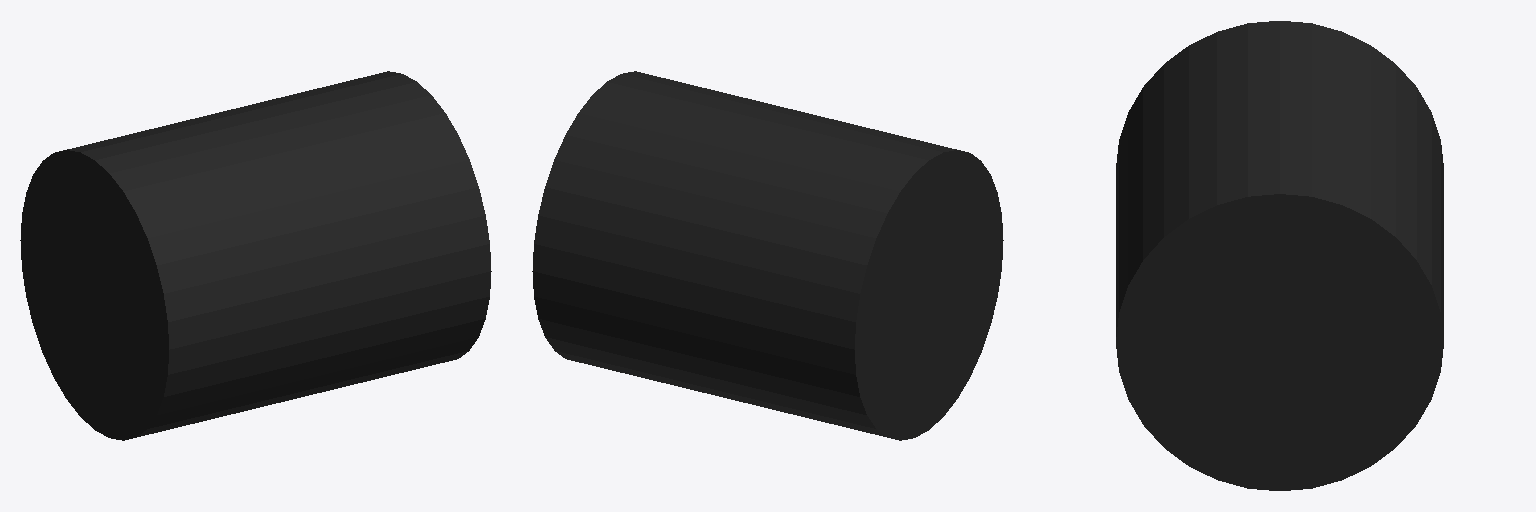
robot.urdf — camera_model:
<?xml version="1.0"?>
<robot name="camera_model">
  <link name="camera_link">
    <visual>
      <origin xyz="0 0 0" rpy="0 1.5707963 0" />
      <geometry>
        <cylinder radius="0.02" length="0.05" />
      </geometry>
      <material name="DarkGrey">
        <color rgba="0.2 0.2 0.2 1.0" />
      </material>
    </visual>
    <collision>
      <origin xyz="0 0 0" rpy="0 1.5707963 0" />
      <geometry>
        <cylinder radius="0.02" length="0.05" />
      </geometry>
    </collision>
    <inertial>
      <mass value="0.05" />
      <origin xyz="0 0 0" rpy="0 0 0" />
      <inertia ixx="0.0001" ixy="0" ixz="0" iyy="0.0001" iyz="0" izz="0.0001" />
    </inertial>
  </link>

  <joint name="camera_screw_joint" type="fixed">
    <parent link="camera_link" />
    <child link="camera_bottom_screw_frame" />
    <origin xyz="0 0.0 0" rpy="0 0 0" />
  </joint>

  <link name="camera_link_depth" />
  <link name="camera_bottom_screw_frame" />
  <link name="camera_depth_frame" />
  <link name="camera_depth_optical_frame" />
  <link name="camera_color_frame" />
  <link name="camera_color_optical_frame" />
  <link name="camera_left_ir_frame" />
  <link name="camera_left_ir_optical_frame" />
  <link name="camera_right_ir_frame" />
  <link name="camera_right_ir_optical_frame" />

  <joint name="camera_link_joint" type="fixed">
    <parent link="camera_bottom_screw_frame" />
    <child link="camera_link_depth" />
    <origin xyz="0 0.0 0.0 " rpy="0 0 0" />
  </joint>

  <joint name="camera_depth_joint" type="fixed">
    <parent link="camera_link_depth" />
    <child link="camera_depth_frame" />
    <origin xyz="0 0 0" rpy="0 0 0" />
  </joint>
  <joint name="camera_depth_optical_joint" type="fixed">
    <parent link="camera_depth_frame" />
    <child link="camera_depth_optical_frame" />
    <origin xyz="0 0 0 " rpy="-1.57 0 -1.57" />
  </joint>
  <joint name="camera_color_joint" type="fixed">
    <parent link="camera_depth_frame" />
    <child link="camera_color_frame" />
    <origin xyz="0 0 0" rpy="0 0 0" />
  </joint>
  <joint name="camera_color_optical_joint" type="fixed">
    <parent link="camera_color_frame" />
    <child link="camera_color_optical_frame" />
    <origin xyz="0 0 0 " rpy="-1.57 0 -1.57" />
  </joint>
  <joint name="camera_left_ir_joint" type="fixed">
    <parent link="camera_depth_frame" />
    <child link="camera_left_ir_frame" />
    <origin xyz="0 0 0 " rpy="0 0 0 " />
  </joint>
  <joint name="camera_left_ir_optical_joint" type="fixed">
    <parent link="camera_left_ir_frame" />
    <child link="camera_left_ir_optical_frame" />
    <origin xyz="0 0 0 " rpy="-1.57 0 -1.57" />
  </joint>
  <joint name="camera_right_ir_joint" type="fixed">
    <parent link="camera_depth_frame" />
    <child link="camera_right_ir_frame" />
    <origin xyz="0 -0.050 0 " rpy="0 0 0" />
  </joint>
  <joint name="camera_right_ir_optical_joint" type="fixed">
    <parent link="camera_right_ir_frame" />
    <child link="camera_right_ir_optical_frame" />
    <origin xyz="0 0 0 " rpy="-1.57 0 -1.57" />
  </joint>

  <gazebo reference="camera_link">
    <sensor name="cameradepth" type="depth_camera">
      <gz_frame_id>camera_depth_optical_frame</gz_frame_id>
      <camera name="camera">
        <horizontal_fov>1.2043</horizontal_fov>
        <image>
          <width>1280</width>
          <height>720</height>
          <format>R_FLOAT32</format>
        </image>
        <clip>
          <near>0.1</near>
          <far>100</far>
        </clip>
      </camera>
      <always_on>1</always_on>
      <update_rate>15</update_rate>
      <visualize>0</visualize>
      <topic>/camera/aligned_depth_to_color/image_raw</topic>
    </sensor>
    <sensor name="cameracolor" type="camera">
      <gz_frame_id>camera_color_optical_frame</gz_frame_id>
      <camera name="camera">
        <horizontal_fov>1.2043</horizontal_fov>
        <image>
          <width>1280</width>
          <height>720</height>
          <format>RGB_INT8</format>
        </image>
        <clip>
          <near>0.1</near>
          <far>100</far>
        </clip>
        <noise>
          <type>gaussian</type>
          <mean>0.0</mean>
          <stddev>0.007</stddev>
        </noise>
      </camera>
      <always_on>1</always_on>
      <update_rate>15</update_rate>
      <visualize>1</visualize>
      <topic>/camera/color/image_raw</topic>
    </sensor>
    <sensor name="cameraired1" type="camera">
      <gz_frame_id>camera_left_ir_optical_frame</gz_frame_id>
      <camera name="camera">
        <horizontal_fov>1.2043</horizontal_fov>
        <image>
          <width>1280</width>
          <height>720</height>
          <format>L_INT8</format>
        </image>
        <clip>
          <near>0.1</near>
          <far>100</far>
        </clip>
        <noise>
          <type>gaussian</type>
          <mean>0.0</mean>
          <stddev>0.05</stddev>
        </noise>
      </camera>
      <always_on>1</always_on>
      <update_rate>15</update_rate>
      <visualize>0</visualize>
      <topic>/camera/infra1/image_raw</topic>
    </sensor>
    <sensor name="cameraired2" type="camera">
      <gz_frame_id>camera_right_ir_optical_frame</gz_frame_id>
      <camera name="camera">
        <horizontal_fov>1.2043</horizontal_fov>
        <image>
          <width>1280</width>
          <height>720</height>
          <format>L_INT8</format>
        </image>
        <clip>
          <near>0.1</near>
          <far>100</far>
        </clip>
        <noise>
          <type>gaussian</type>
          <mean>0.0</mean>
          <stddev>0.05</stddev>
        </noise>
      </camera>
      <always_on>1</always_on>
      <update_rate>15</update_rate>
      <visualize>0</visualize>
      <topic>/camera/infra2/image_raw</topic>
    </sensor>
  </gazebo>

  <gazebo>
    <static>true</static>
  </gazebo>
</robot>

--- What the picture shows (computed from the rendered views, not written in the file) ---
Views: 3 orthographic renders of the robot side by side, from view 1: azimuth 30°, elevation 25°; view 2: azimuth 150°, elevation 25°; view 3: azimuth 270°, elevation 25°.
Model camera_model with 11 links and 10 joints (10 fixed), rooted at camera_link, posed all joints at 0.
Visible links, largest first — view 1: camera_link; view 2: camera_link; view 3: camera_link.
Link boxes in pixels (x1,y1,x2,y2): camera_link: [20, 71, 491, 440]; camera_link: [532, 71, 1003, 440]; camera_link: [1116, 21, 1443, 490].
Bounding box of the posed robot: 0.05 × 0.04 × 0.04 m (x, y, z).
Geometry: primitives only (box / cylinder / sphere), no mesh files.
